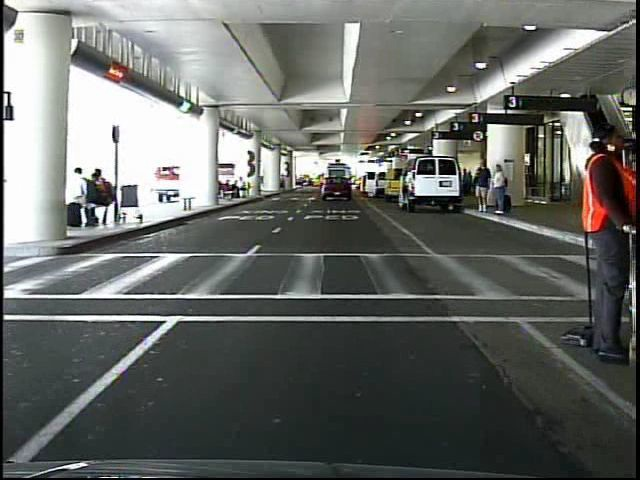person: (572, 122, 638, 361), (491, 160, 511, 221), (473, 154, 492, 218), (317, 170, 329, 194)
